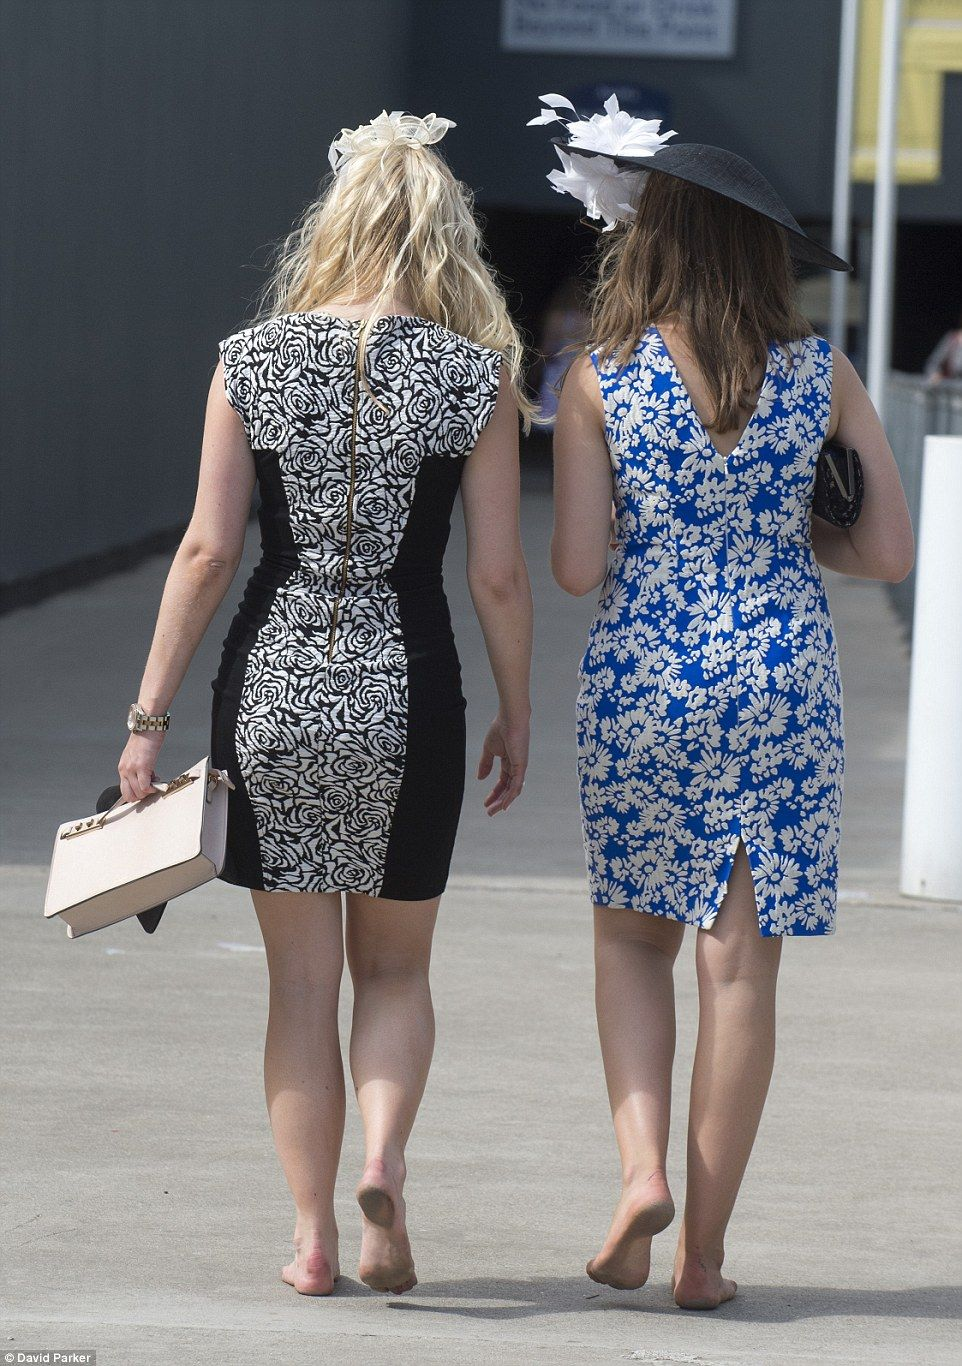Person: (115, 105, 537, 1311), (551, 125, 915, 1313)
